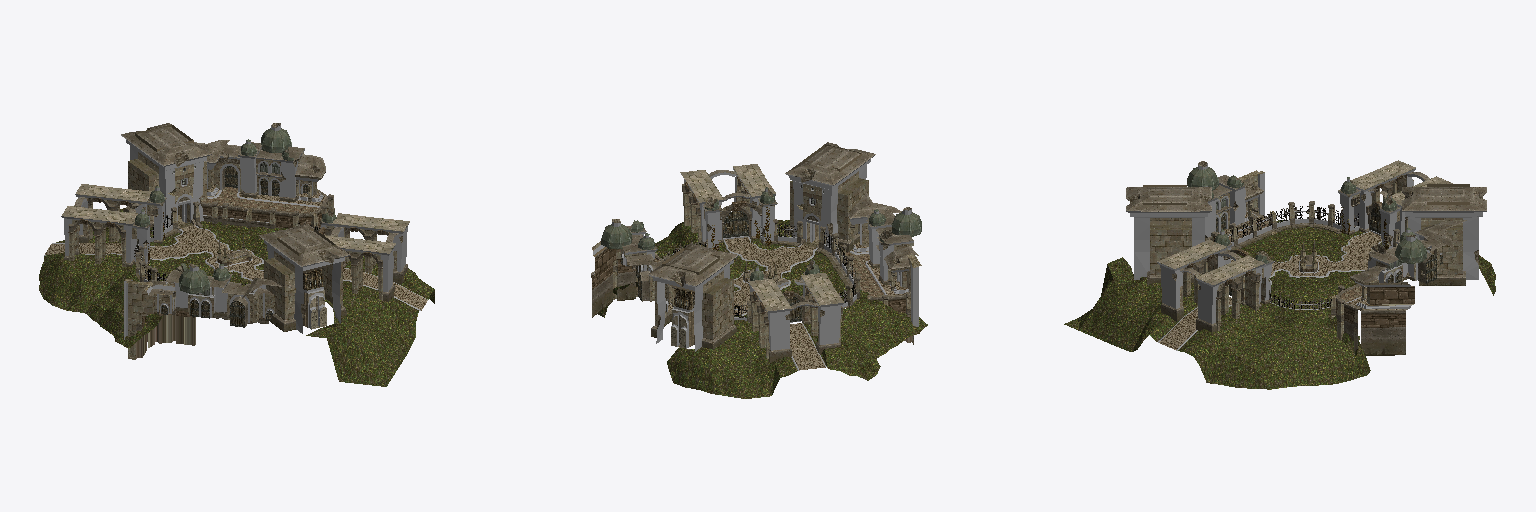
3 views of the same model, side by side, from view 1: azimuth 30°, elevation 25°; view 2: azimuth 150°, elevation 25°; view 3: azimuth 270°, elevation 25° (orthographic).
Parts seen in each view (by area): view 1: Arena, InteriorStatues02; view 2: Arena, InteriorStatues; view 3: Arena.
Boxes of the visible parts, x1,y1,x2,y2 form: Arena: [39, 123, 434, 386]; InteriorStatues02: [303, 269, 326, 329]; Arena: [591, 142, 927, 398]; InteriorStatues: [671, 288, 694, 348]; Arena: [1064, 160, 1495, 389].
Bounding box in the file's own units: 202 × 77.79 × 243.
Materials: 20 (19 with a texture image).